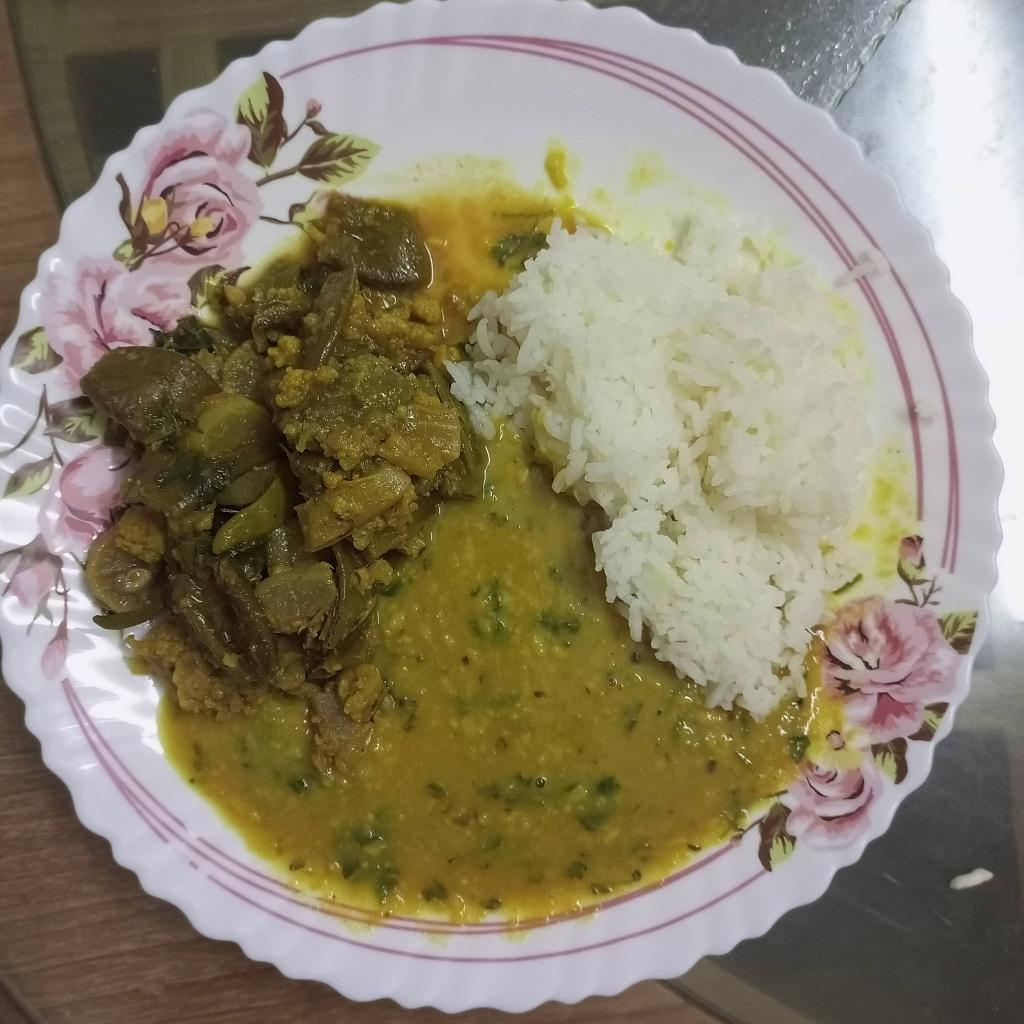daal: (161, 441, 811, 920)
rice: (450, 209, 906, 719)
shim: (83, 195, 489, 767)
